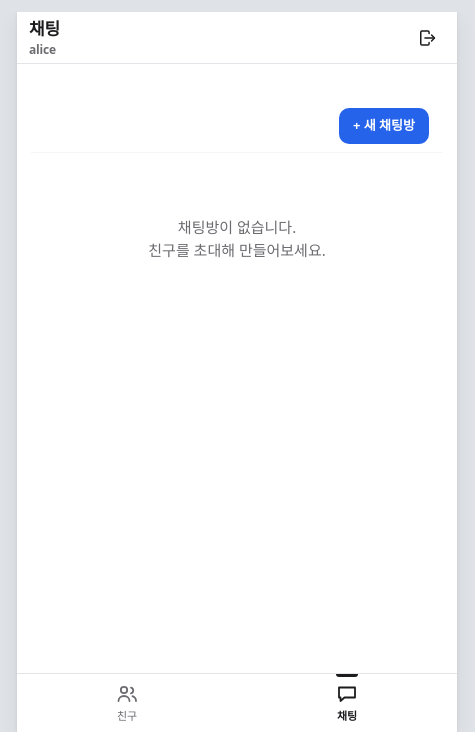
it: 로그아웃 › 토큰을 지우고 로그인 화면으로 돌아간다
Expected: the element with test id "view-rooms" is shown, left=31, top=100, right=443, bottom=260
Click the button with test id "sign-out".
click(427, 38)  # box left=405, top=16, right=449, bottom=60
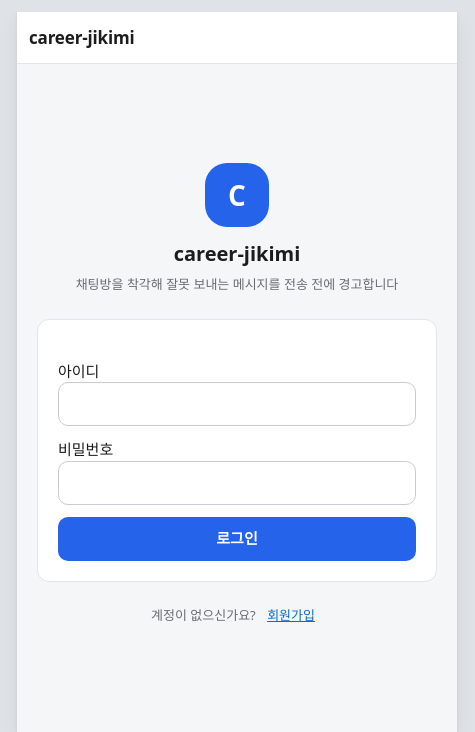
Expected: the element with test id "view-auth" is shown
Expected: the button with test id "nav-rooms" is gone
